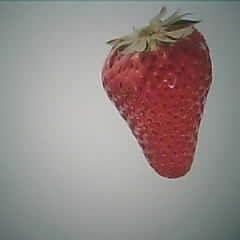straw-ripe: (101, 28, 213, 178)
